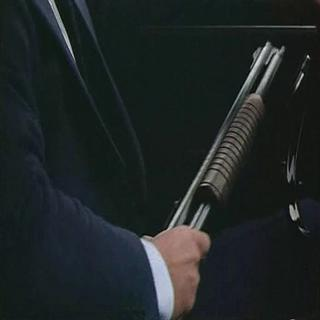gun: (141, 29, 310, 277)
